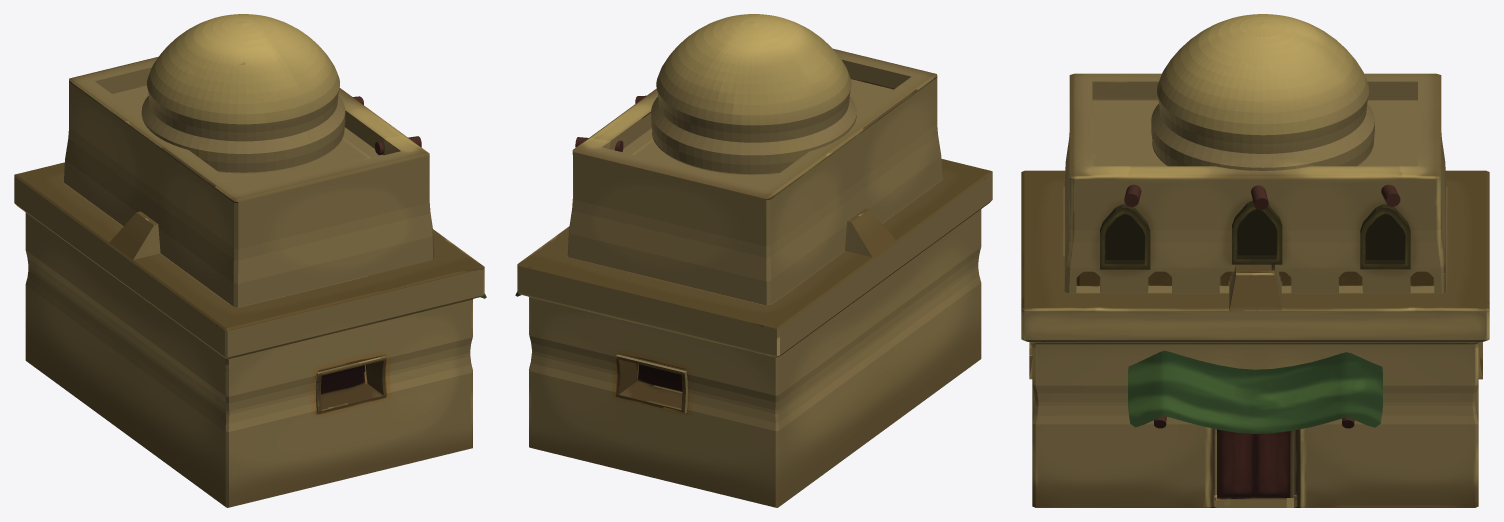
The model's file is Construção5.fbx.
3 renders of one model, left to right at view 1: azimuth 30°, elevation 25°; view 2: azimuth 150°, elevation 25°; view 3: azimuth 270°, elevation 25°, orthographic. The views are drawn at different scales.
Parts seen in each view (by area): view 1: Cube.054; view 2: Cube.054; view 3: Cube.054, Plane.001, Cube.058, Cylinder.002.
Part boxes in pixels (left/top/right/bottom): Cube.054: left=14, top=14, right=484, bottom=507; Cube.054: left=517, top=14, right=992, bottom=507; Cube.054: left=1021, top=14, right=1489, bottom=507; Plane.001: left=1128, top=350, right=1382, bottom=433; Cube.058: left=1100, top=200, right=1410, bottom=269; Cylinder.002: left=1124, top=184, right=1400, bottom=428.
Bounding box in the file's own units: 932 × 1074 × 1094.
Materials: 4 (4 with a texture image).
